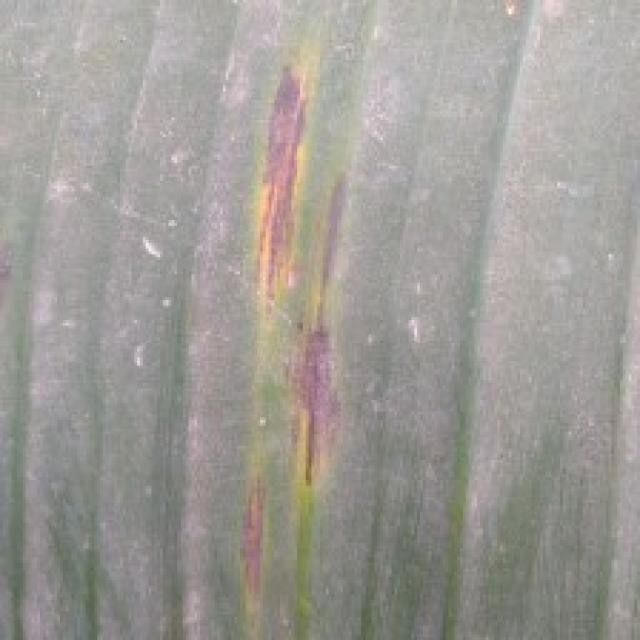Early_leaf_spot: (231, 46, 357, 492), (225, 470, 276, 628)
